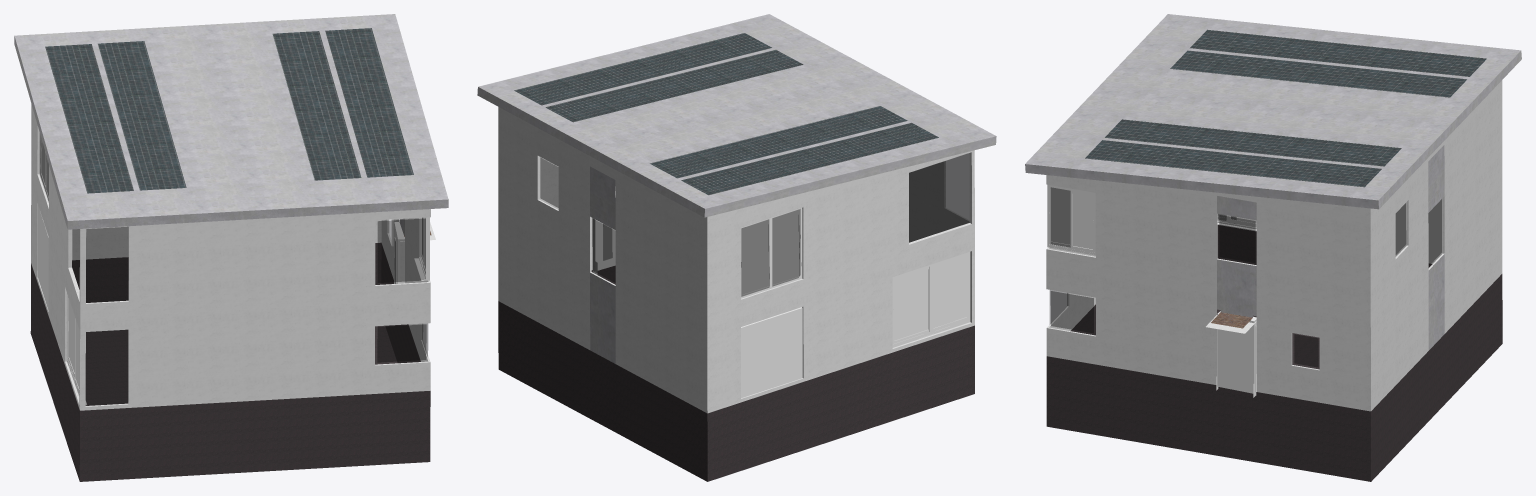
3 renders of one model, left to right at view 1: azimuth 30°, elevation 25°; view 2: azimuth 150°, elevation 25°; view 3: azimuth 270°, elevation 25°, orthographic. The views are drawn at different scales.
Parts seen in each view (by area): view 1: Mesh 67, Mesh 58, Mesh 32, Mesh 75, Mesh 50.002, CTRL_Hole; view 2: Mesh 67, Mesh 58, Mesh 32, Mesh 75, Mesh 50.002, CTRL_Hole, Window.R, Window.L, Window.L.001, Window.R.001, CTRL_Hole.004, WindowFrame; view 3: Mesh 67, Mesh 58, Mesh 32, Mesh 75, Mesh 50.002, CTRL_Hole.004, Window.R.003, CTRL_Hole, Window.L.003, WindowFrame.003.
Boxes of the visible parts, x1,y1,x2,y2 form: Mesh 67: [31, 104, 435, 410]; Mesh 58: [14, 14, 448, 235]; Mesh 32: [30, 243, 430, 481]; Mesh 75: [45, 28, 413, 193]; Mesh 50.002: [40, 135, 427, 405]; CTRL_Hole: [37, 204, 48, 310]; Mesh 67: [498, 107, 974, 413]; Mesh 58: [477, 14, 996, 363]; Mesh 32: [498, 266, 974, 481]; Mesh 75: [514, 33, 938, 195]; Mesh 50.002: [540, 153, 969, 296]; CTRL_Hole: [741, 307, 802, 398]; Window.R: [929, 253, 968, 332]; Window.L: [893, 267, 929, 343]; Window.L.001: [741, 220, 772, 298]; Window.R.001: [771, 211, 801, 288]; CTRL_Hole.004: [595, 191, 615, 270]; WindowFrame: [892, 252, 970, 347]; Mesh 67: [1046, 80, 1502, 411]; Mesh 58: [1025, 14, 1521, 350]; Mesh 32: [1046, 225, 1502, 481]; Mesh 75: [1085, 29, 1486, 187]; Mesh 50.002: [1050, 187, 1441, 367]; CTRL_Hole.004: [1217, 311, 1256, 393]; Window.R.003: [1070, 190, 1094, 252]; CTRL_Hole: [1395, 198, 1442, 263]; Window.L.003: [1049, 187, 1070, 247]; WindowFrame.003: [1047, 184, 1095, 255].
Size of the model in its own units: 12.75 by 8.25 by 12.77.
Materials: 14 (7 with a texture image).
